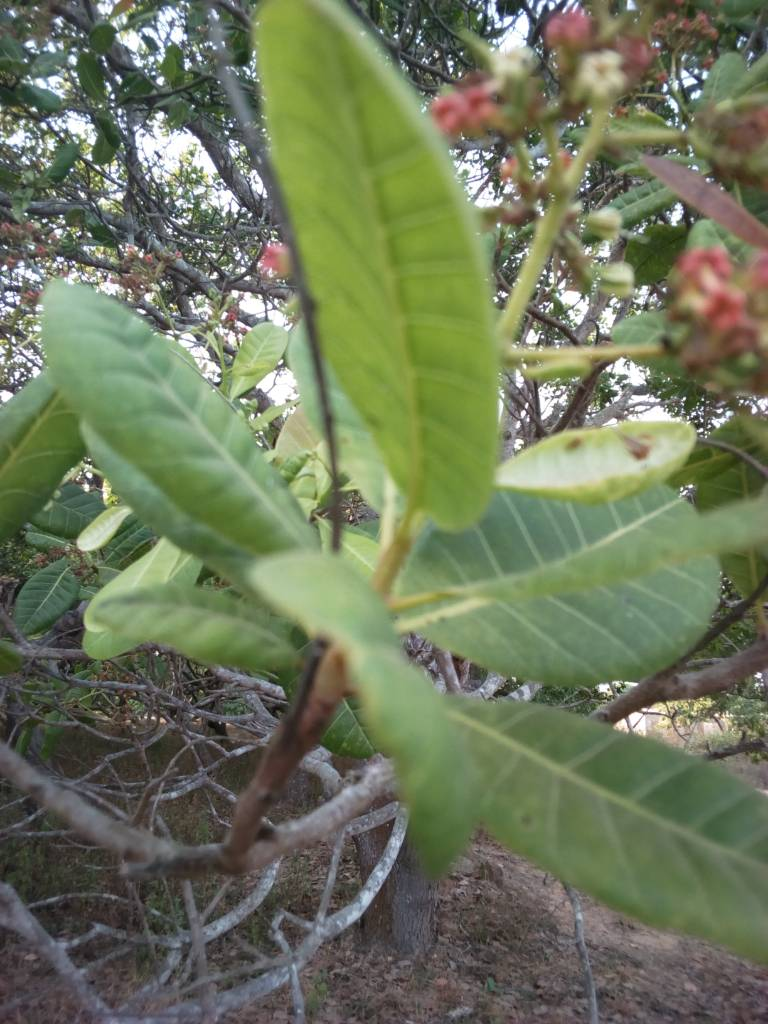Dessèchement des bourgeons: (271, 625, 338, 753)
